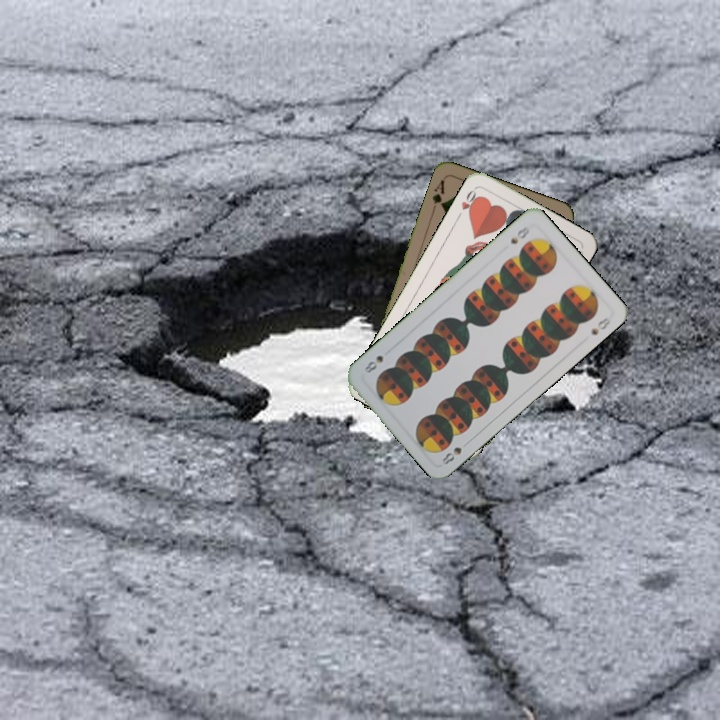GA: (428, 175, 447, 214)
HO: (453, 184, 482, 221)
S8: (438, 436, 472, 467), (506, 222, 532, 247)
